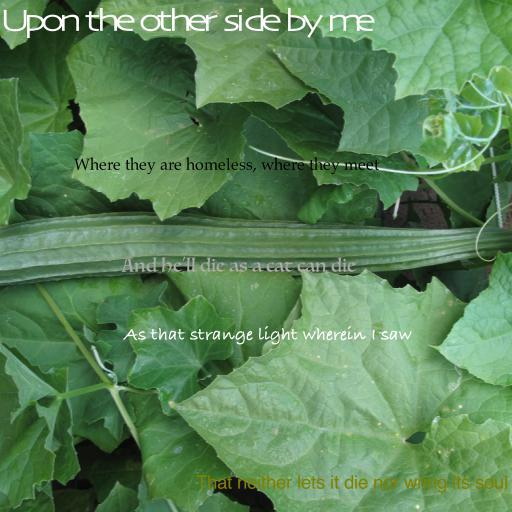Bradley Hand: (124, 325, 412, 345)
Impact: (196, 475, 508, 493)
Luminari: (122, 256, 356, 273)
Palatino: (73, 157, 379, 175)
Skia: (0, 7, 371, 38)
